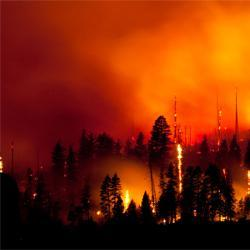fire: (176, 140, 185, 191), (126, 188, 130, 203)
